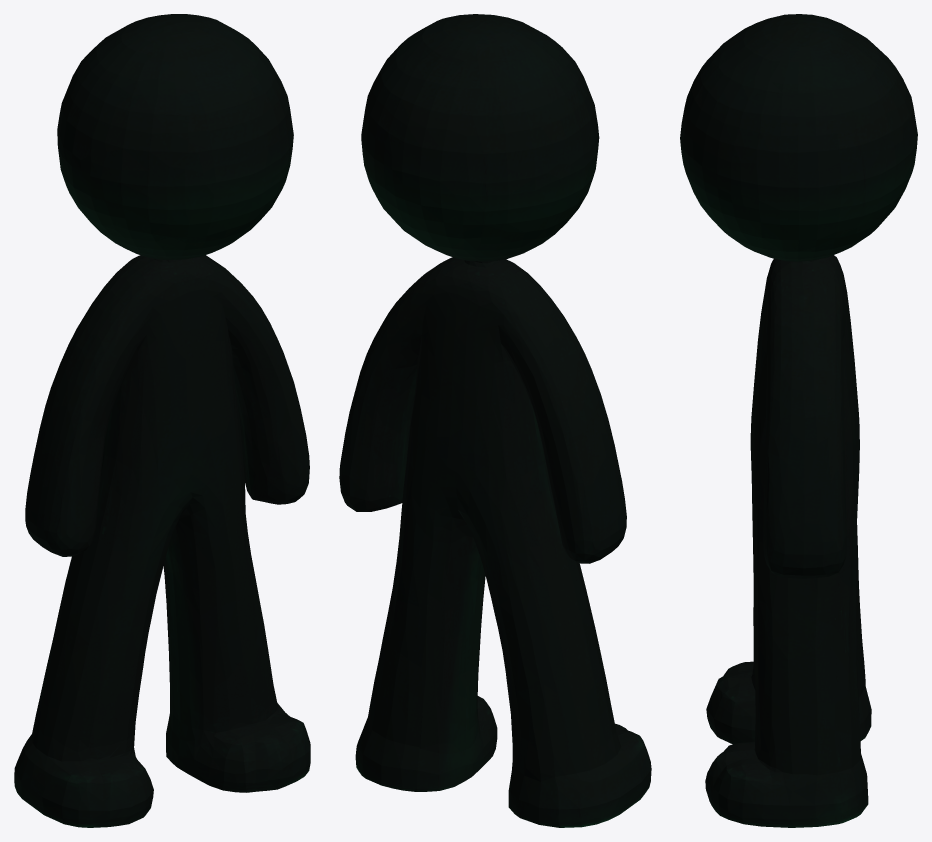
Rendered from blue.glb.
3 views of the same model, side by side, from view 1: azimuth 30°, elevation 25°; view 2: azimuth 150°, elevation 25°; view 3: azimuth 270°, elevation 25° (orthographic).
Visible parts, largest first — view 1: world; view 2: world; view 3: world.
Part boxes in pixels (box(x1,y1,x2,y2)): world: box(14, 14, 310, 827); world: box(339, 14, 651, 827); world: box(680, 14, 917, 827).
Bounding box in the file's own units: 0.2673 × 0.7003 × 0.2004.
1 material, 1 textured.
